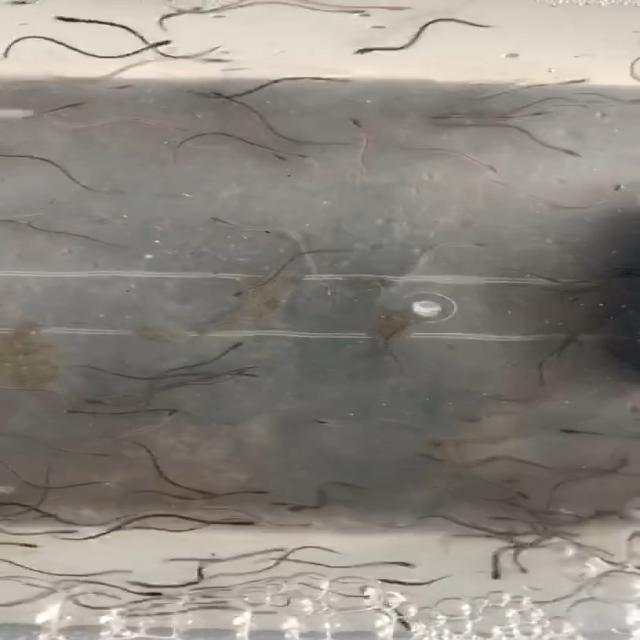active_glass_eel: (51, 11, 91, 31), (348, 40, 394, 56), (200, 211, 239, 228), (78, 391, 124, 405), (121, 575, 168, 588), (389, 610, 418, 631), (216, 367, 266, 379), (230, 284, 266, 300), (474, 159, 502, 179), (183, 85, 215, 102), (189, 481, 221, 498), (144, 36, 175, 53), (310, 416, 353, 428), (2, 538, 45, 550), (555, 145, 587, 161), (392, 556, 424, 572), (560, 425, 599, 438), (231, 514, 262, 530), (206, 90, 243, 103), (160, 406, 185, 425), (347, 117, 371, 136), (286, 149, 324, 161), (236, 486, 274, 498), (288, 502, 333, 512), (509, 558, 537, 574), (335, 5, 372, 17), (46, 525, 80, 538), (98, 565, 135, 576), (380, 0, 413, 12), (129, 587, 165, 598), (84, 448, 114, 461), (487, 566, 510, 582), (30, 509, 60, 521), (269, 150, 291, 166), (565, 77, 589, 90), (224, 340, 248, 351)
